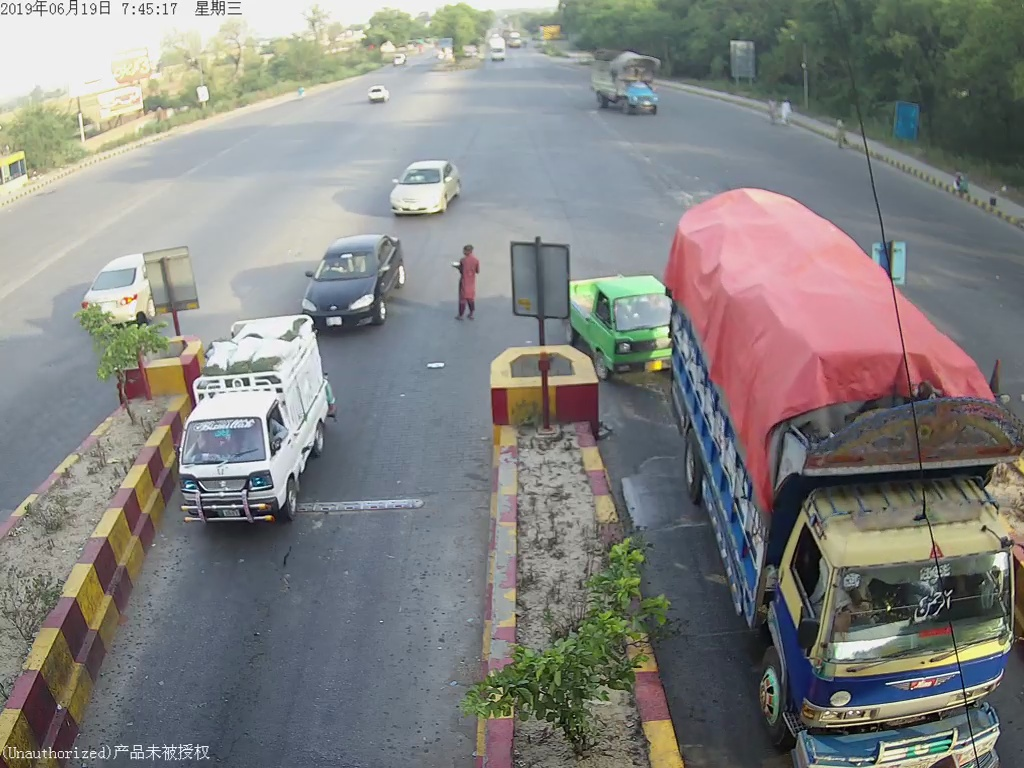Cat-1: (180, 325, 333, 525), (309, 225, 406, 329), (590, 280, 668, 385), (390, 154, 461, 224)
Cat-4: (675, 210, 1016, 768)
